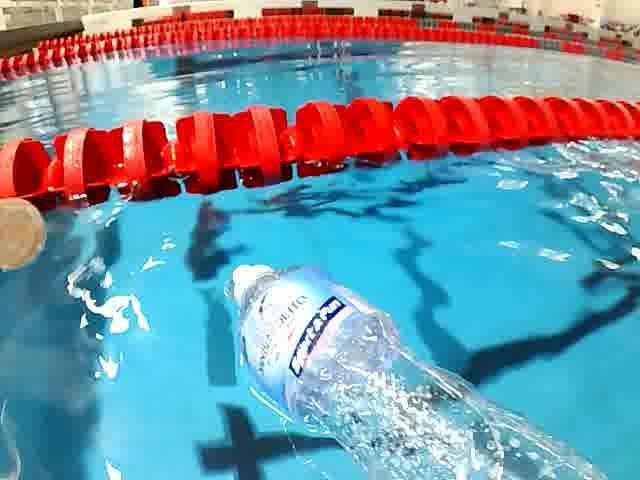Bottle: (215, 257, 610, 480)
